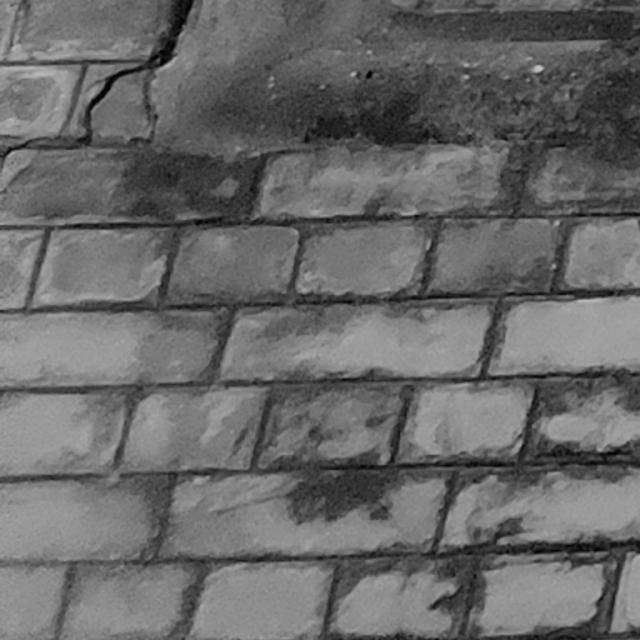crack: (0, 1, 192, 169)
